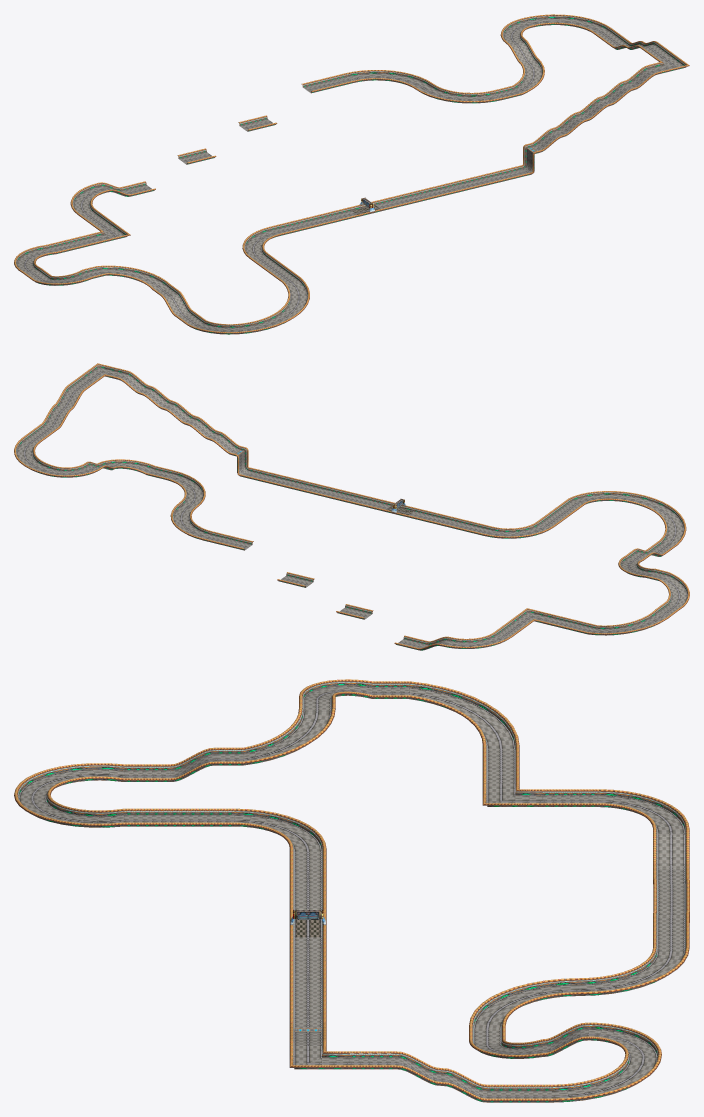
3 renders of one model, top to bottom at view 1: azimuth 30°, elevation 25°; view 2: azimuth 150°, elevation 25°; view 3: azimuth 270°, elevation 25°, orthographic. The views are drawn at different scales.
Parts seen in each view (by area): view 1: RoadMain.001, Wall_Top.005, Wall_Side.005; view 2: RoadMain.001, Wall_Top.005, Wall_Side.005; view 3: RoadMain.001, Wall_Top.005, Wall_Side.005.
Boxes of the visible parts, box(x1,y1,x2,y2) form: RoadMain.001: box(17, 18, 683, 332); Wall_Top.005: box(14, 14, 689, 333); Wall_Side.005: box(16, 16, 686, 334); RoadMain.001: box(16, 367, 687, 648); Wall_Top.005: box(14, 363, 689, 649); Wall_Side.005: box(16, 365, 687, 650); RoadMain.001: box(19, 685, 685, 1098); Wall_Top.005: box(14, 679, 689, 1101); Wall_Side.005: box(17, 682, 686, 1102).
Size of the model in its own units: 133500 by 20560 by 73540.
12 materials, 12 textured.
